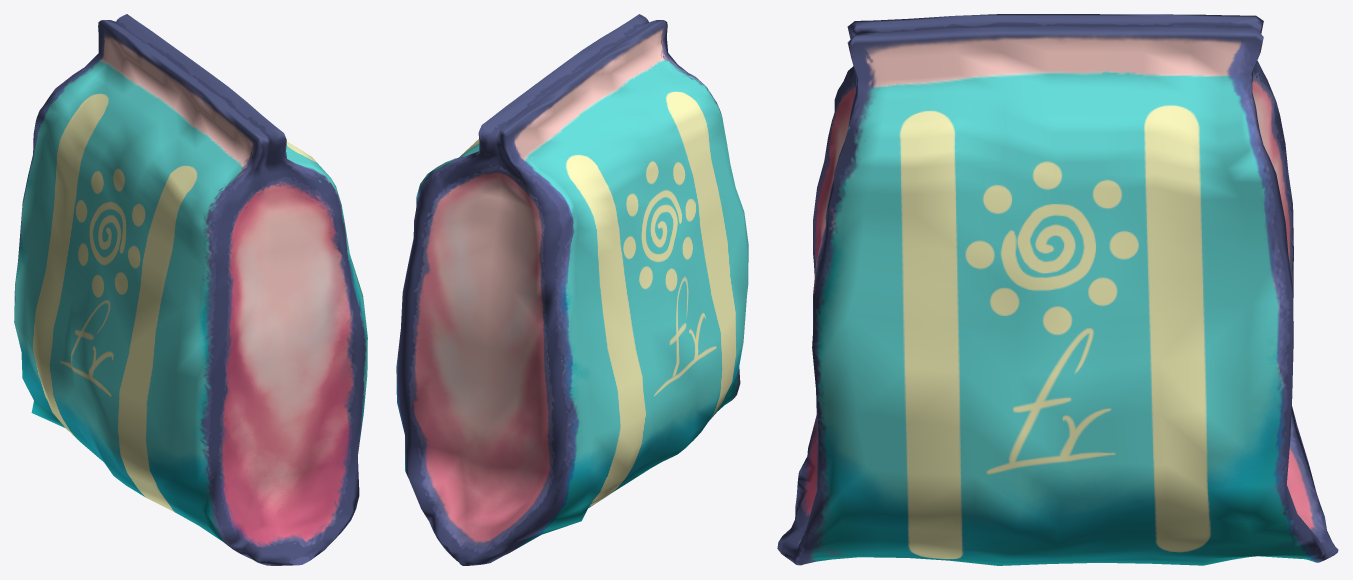
File: fertilizer bag.fbx
3 renders of one model, left to right at view 1: azimuth 30°, elevation 25°; view 2: azimuth 150°, elevation 25°; view 3: azimuth 270°, elevation 25°, orthographic. The views are drawn at different scales.
Visible parts, largest first — view 1: fertilizer; view 2: fertilizer; view 3: fertilizer.
Part boxes in pixels (box(x1,y1,x2,y2)): fertilizer: box(14, 14, 367, 565); fertilizer: box(396, 14, 748, 565); fertilizer: box(777, 14, 1338, 565).
Size of the model in its own units: 0.288 by 0.5053 by 0.4835.
